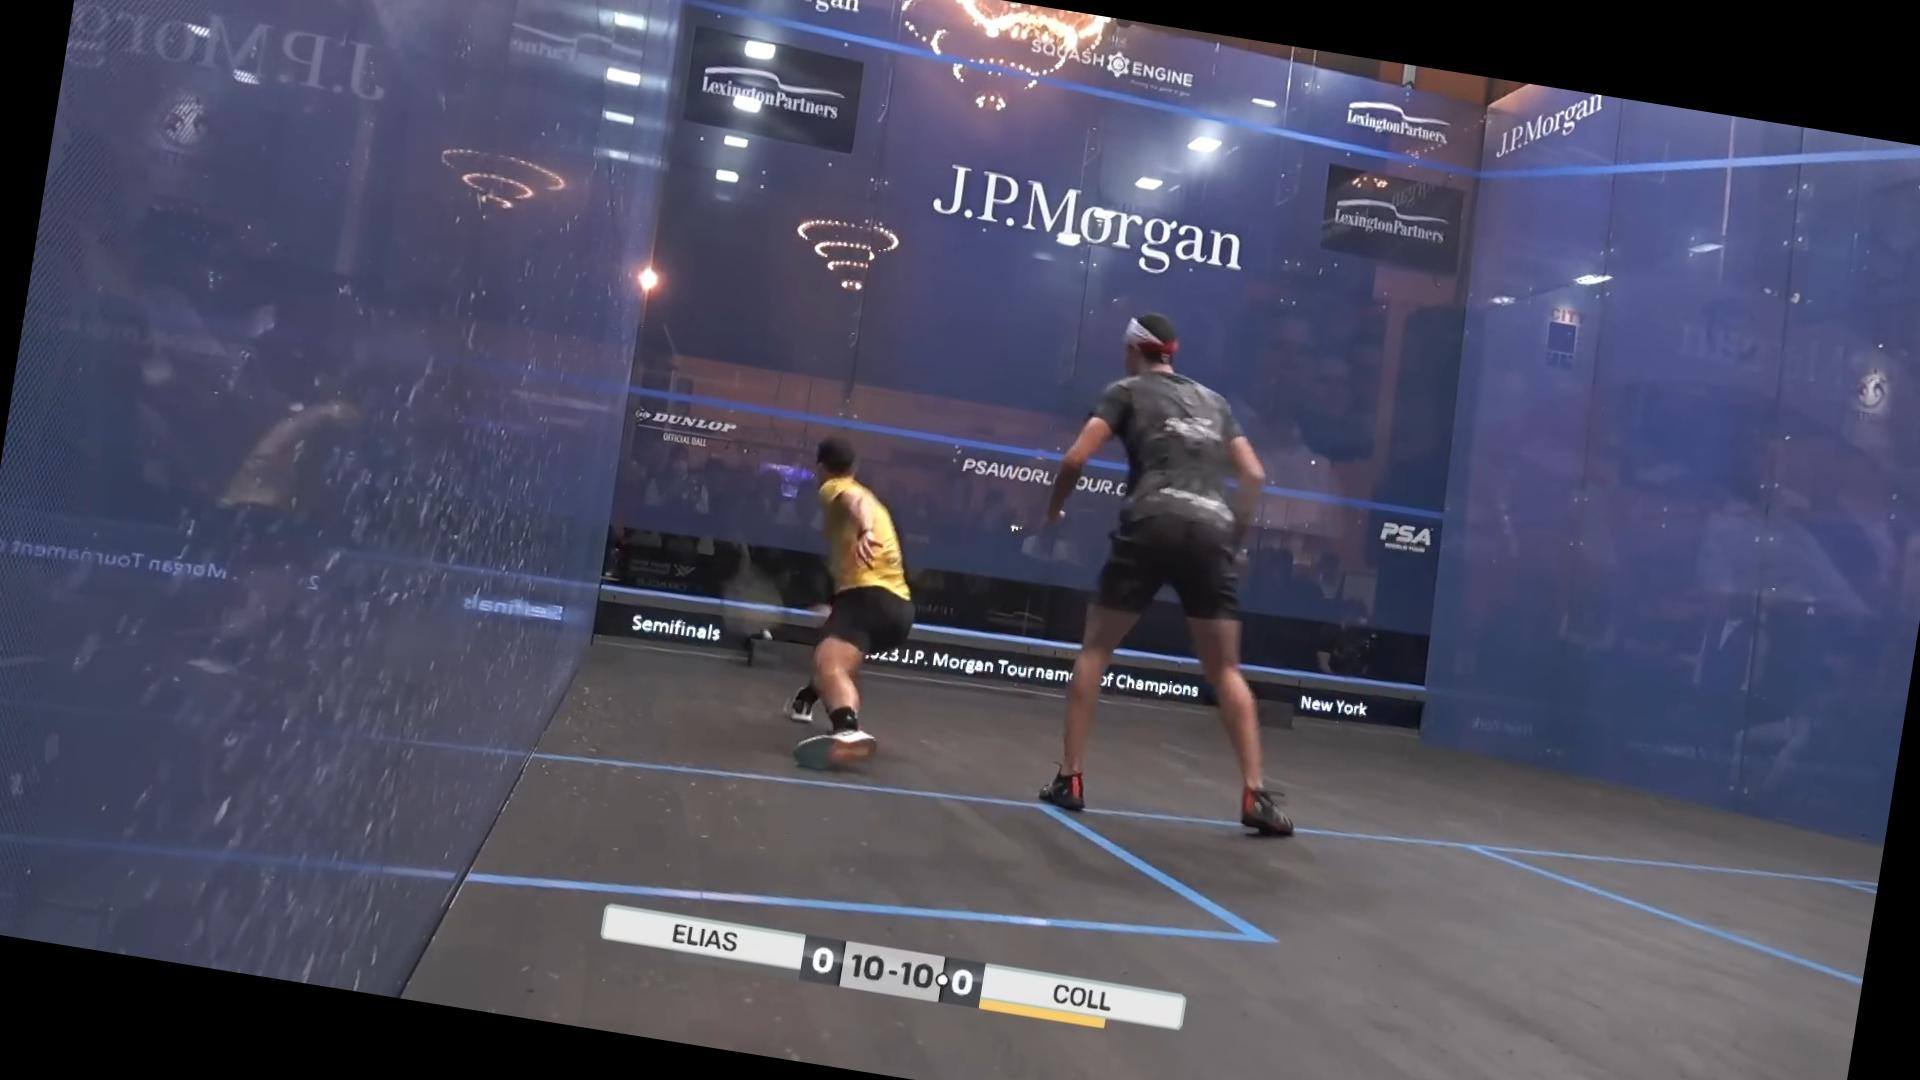Racket: (709, 564, 823, 645)
